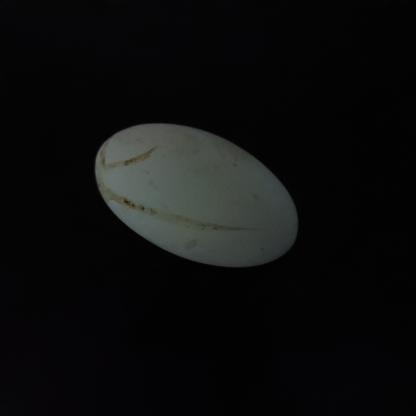egg: (88, 122, 342, 276)
